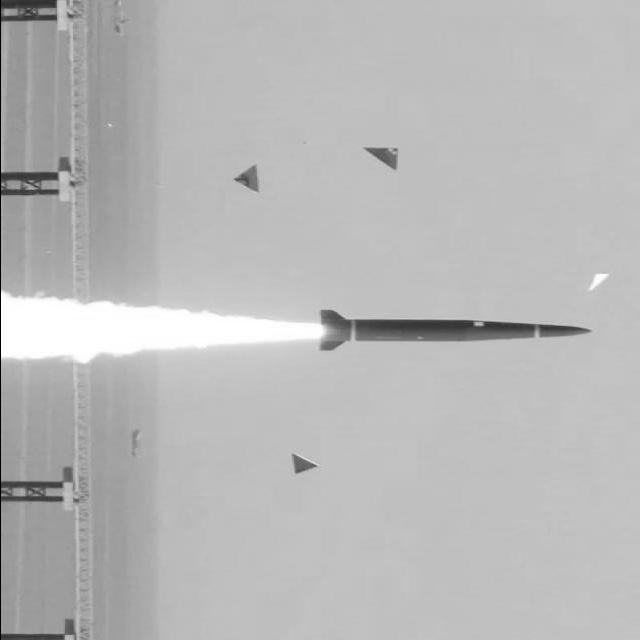missile: (309, 310, 599, 355)
